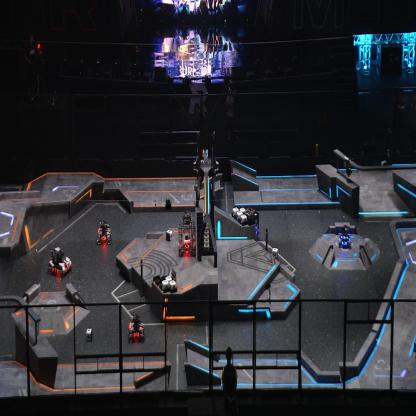car: (177, 210, 197, 256), (46, 244, 72, 277), (241, 207, 259, 240), (126, 313, 145, 344), (95, 219, 112, 245), (338, 225, 351, 248)
